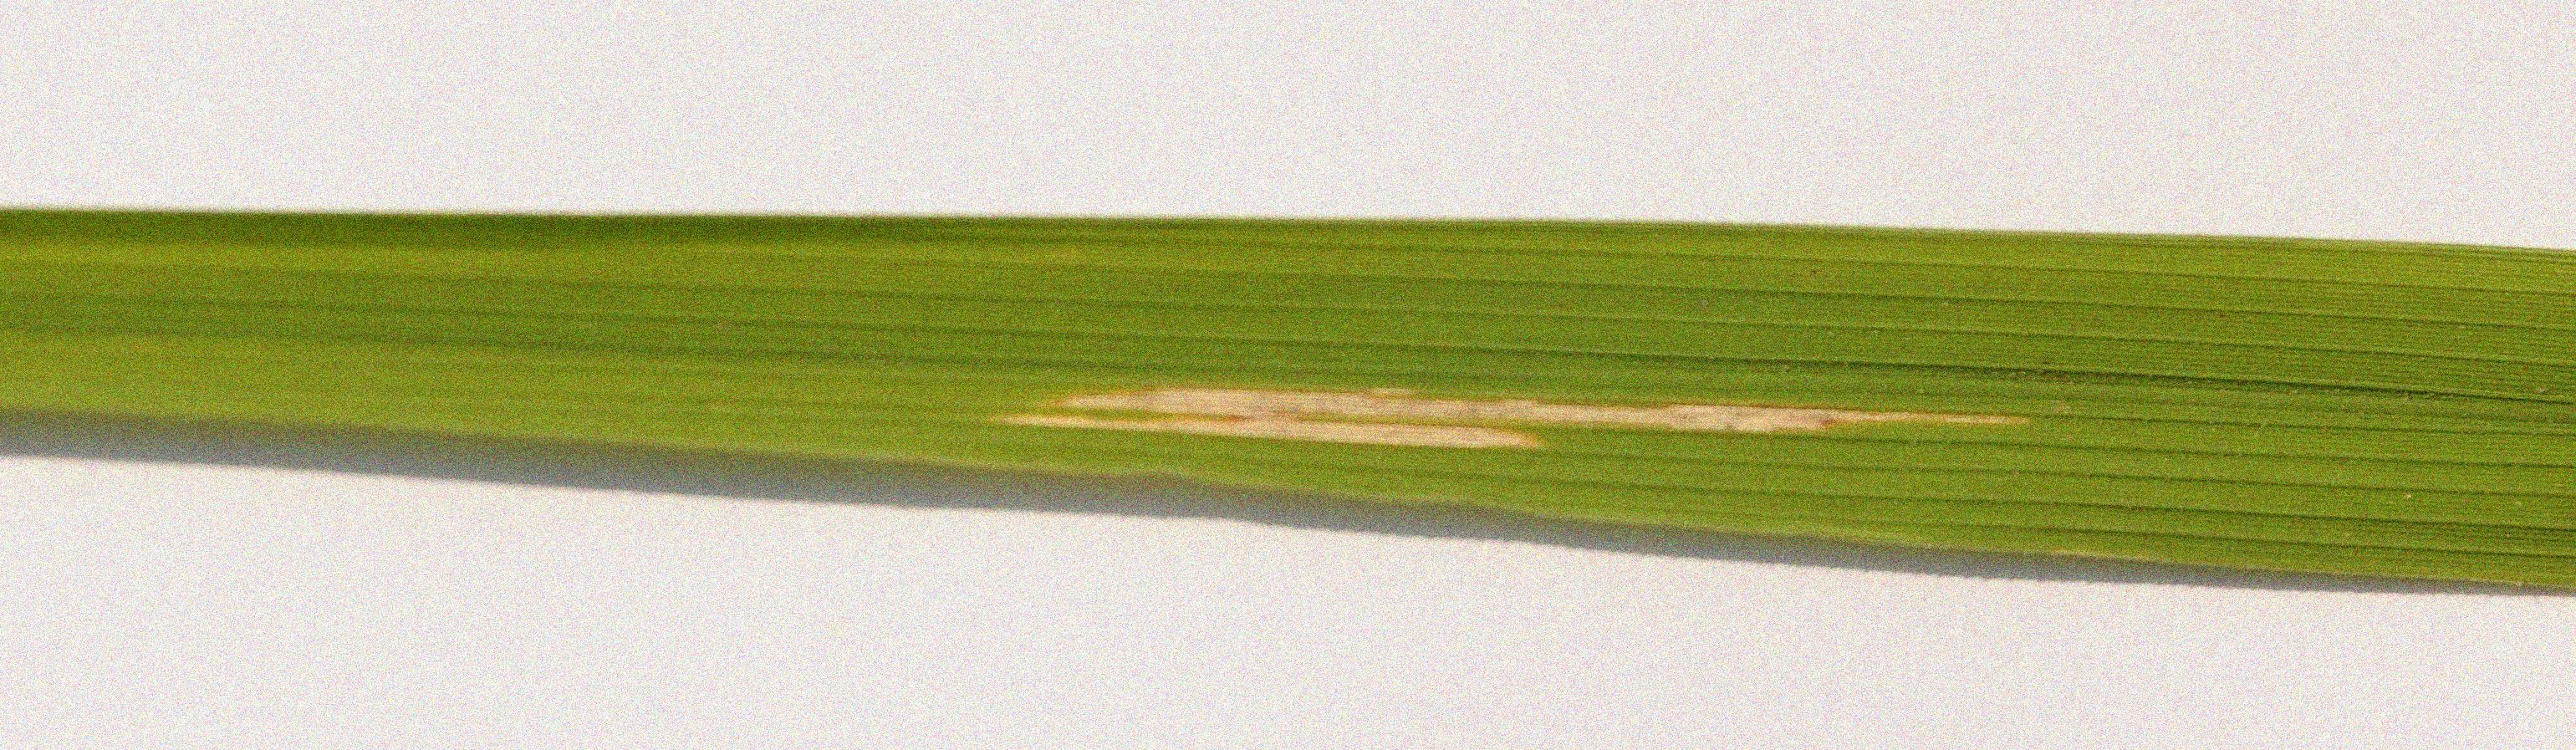bacterial_leaf_blight: (969, 364, 2062, 466)
